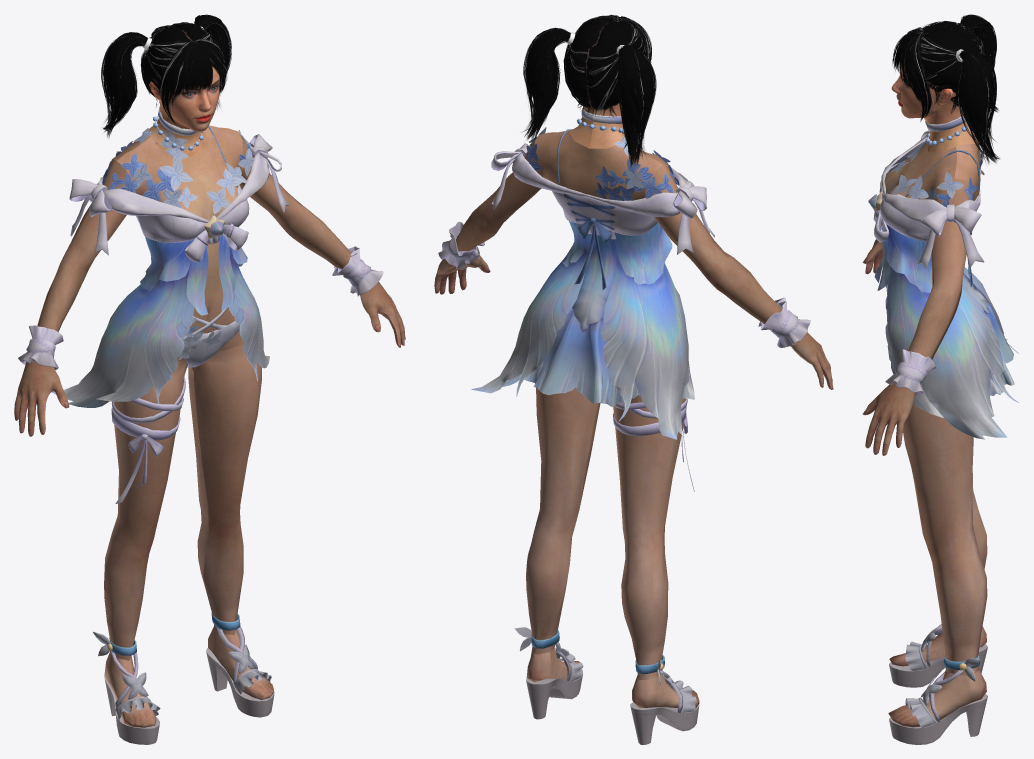
The model's file is pubg_female_set.glb.
3 views of the same model, side by side, from view 1: azimuth 30°, elevation 25°; view 2: azimuth 150°, elevation 25°; view 3: azimuth 270°, elevation 25° (orthographic). The views are drawn at different scales.
Visible parts, largest first — view 1: Object_16, Object_10, Object_18, Object_4, Mesh_0034.rip.001_1, Object_12, Mesh_0027.rip.001_0, Object_14; view 2: Object_10, Object_16, Object_18, Object_4, Mesh_0034.rip.001_1, Object_12, Object_14, Mesh_0027.rip.001_0; view 3: Object_10, Object_16, Object_18, Mesh_0034.rip.001_1, Object_4, Object_12, Object_14, Mesh_0027.rip.001_0.
Boxes of the visible parts, x1,y1,x2,y2 form: Object_16: (104, 344, 261, 660); Object_10: (51, 235, 269, 503); Object_18: (14, 125, 405, 436); Object_4: (18, 106, 383, 369); Mesh_0034.rip.001_1: (101, 14, 231, 137); Object_12: (93, 612, 274, 744); Mesh_0027.rip.001_0: (148, 29, 219, 156); Object_14: (104, 627, 273, 727); Object_10: (471, 221, 694, 491); Object_16: (526, 387, 686, 679); Object_18: (434, 129, 833, 389); Object_4: (438, 108, 810, 347); Mesh_0034.rip.001_1: (523, 14, 656, 166); Object_12: (514, 627, 699, 744); Object_14: (526, 648, 699, 708); Mesh_0027.rip.001_0: (569, 21, 635, 148); Object_10: (874, 224, 1018, 439); Object_16: (903, 404, 987, 675); Object_18: (862, 140, 980, 455); Mesh_0034.rip.001_1: (892, 14, 999, 163); Object_4: (868, 116, 984, 394); Object_12: (889, 624, 987, 744); Object_14: (888, 626, 986, 727); Mesh_0027.rip.001_0: (891, 32, 976, 152).
Bounding box in the file's own units: 1.07 × 1.81 × 0.3776.
Materials: 8 (8 with a texture image).
